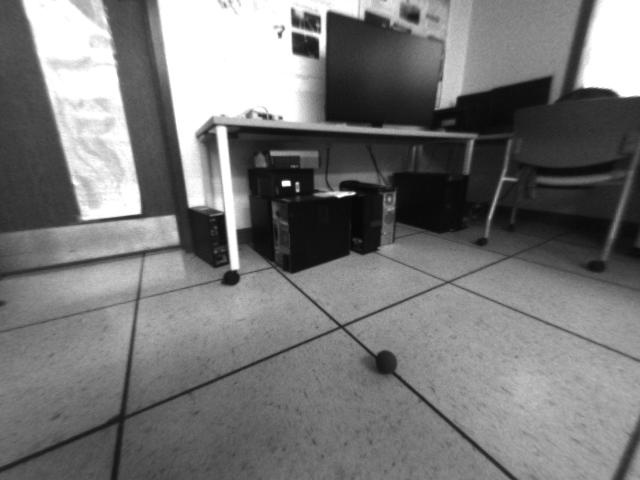dogtoy: (368, 341, 403, 382)
